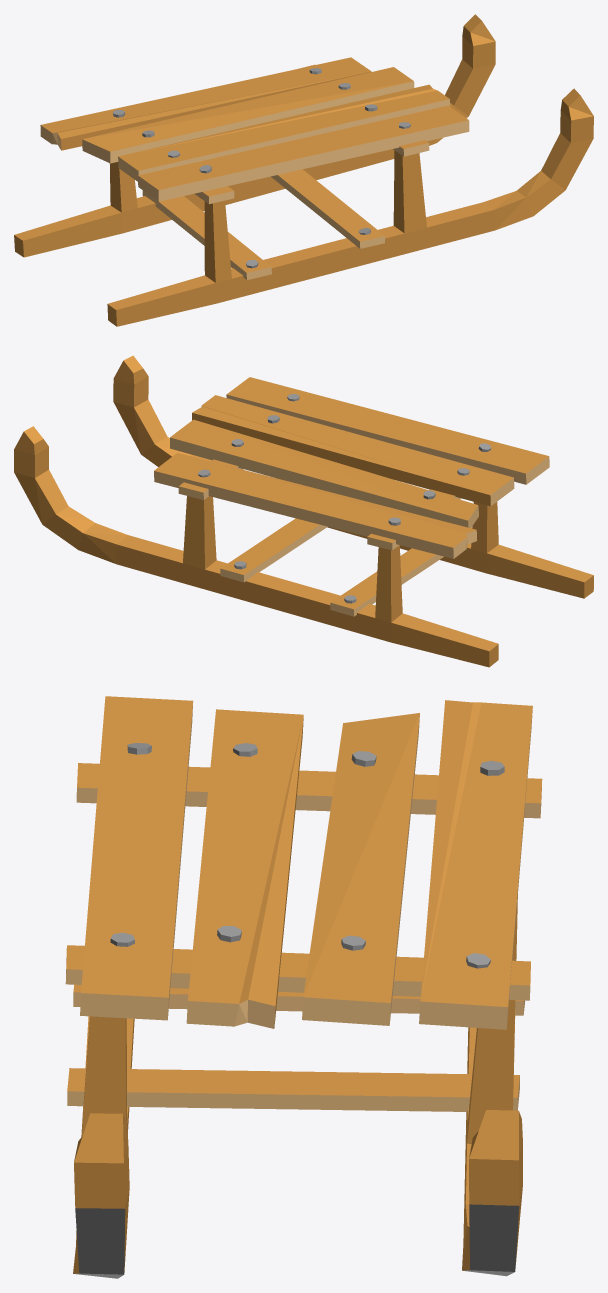
The model's file is Winter Sled.glb.
The picture shows the model from 3 angles, top to bottom: view 1: azimuth 30°, elevation 25°; view 2: azimuth 150°, elevation 25°; view 3: azimuth 270°, elevation 25°; orthographic projection. The views are drawn at different scales.
Visible parts, largest first — view 1: group683516768; view 2: group683516768; view 3: group683516768.
Boxes of the visible parts, x1=… form: group683516768: x1=14, y1=14, x2=593, y2=326; group683516768: x1=14, y1=355, x2=593, y2=667; group683516768: x1=65, y1=696, x2=542, y2=1278.
Size of the model in its own units: 0.8697 by 0.227 by 0.3792.
